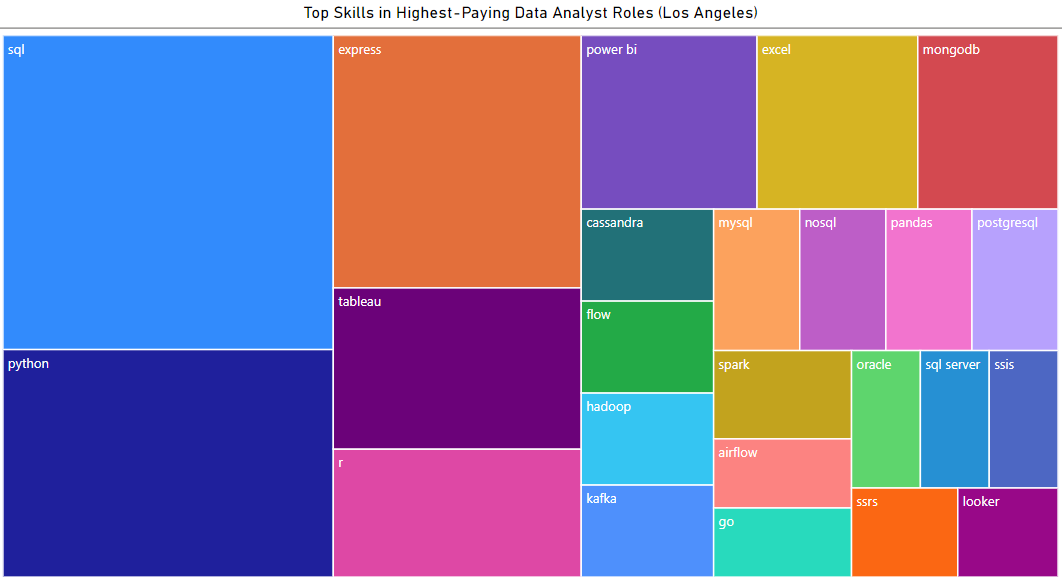

What the dashboard file says about the page in this screenshot:
{"tool":"powerbi","page":{"name":"Page 6","canvas":[1280,720],"ordinal":5},"visuals":[{"type":"treemap","title":"Top Skills in Highest-Paying Data Analyst Roles (Los Angeles)","fields":{"Group":["top_paying_job_skills_remote_LA.skills"],"Values":["Sum(top_paying_job_skills_remote_LA.salary_year_avg)"]},"box":[45.7,66,1081.9,588.2],"z":0}]}

Visuals, with their boxes on the page's 1280x720 design canvas (x1, y1, x2, y2). These are canvas units, not pixel positions in the 1062x579 screenshot, which may show the page scaled, cropped or inside an application window:
"Top Skills in Highest-Paying Data Analyst Roles (Los Angeles)" treemap: bbox=[46, 66, 1128, 654]
